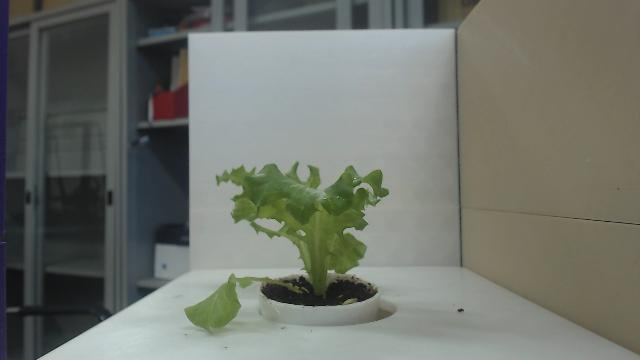Vegetative Stage: (185, 159, 392, 335)
